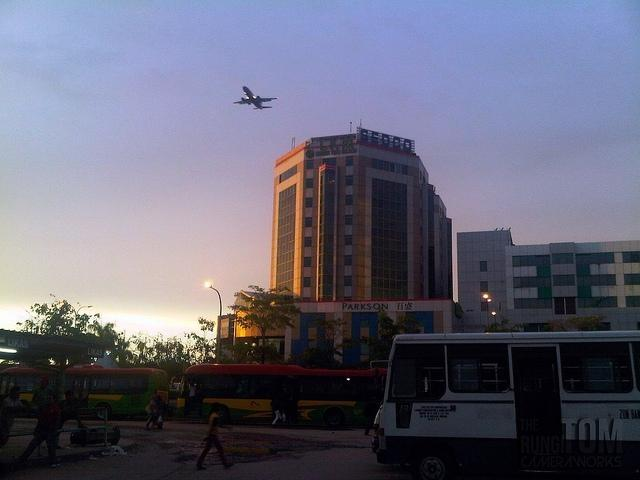bus: (370, 331, 638, 478), (174, 362, 387, 428), (57, 364, 170, 420)
